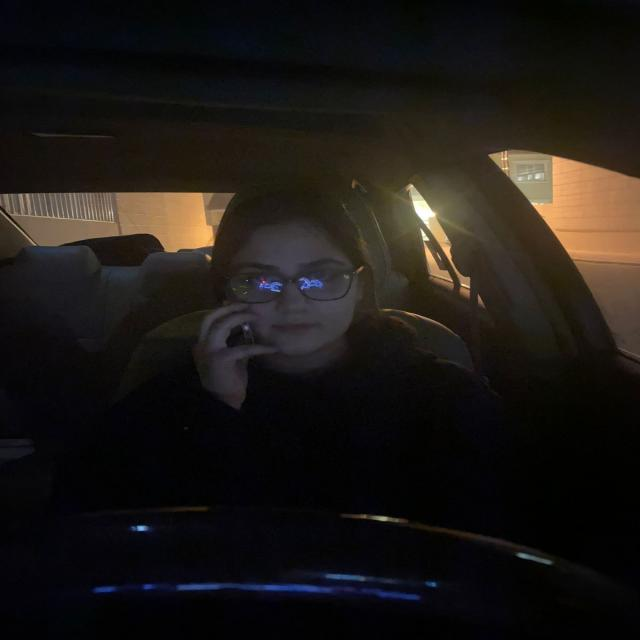mobile: (205, 292, 265, 384)
person: (206, 185, 368, 364)
